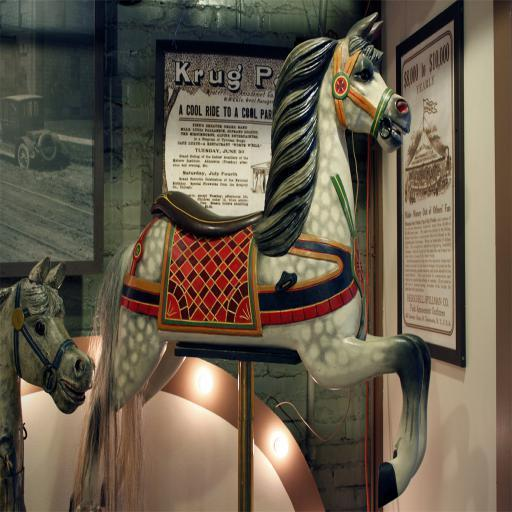horse: (70, 10, 432, 512), (0, 252, 94, 511)
